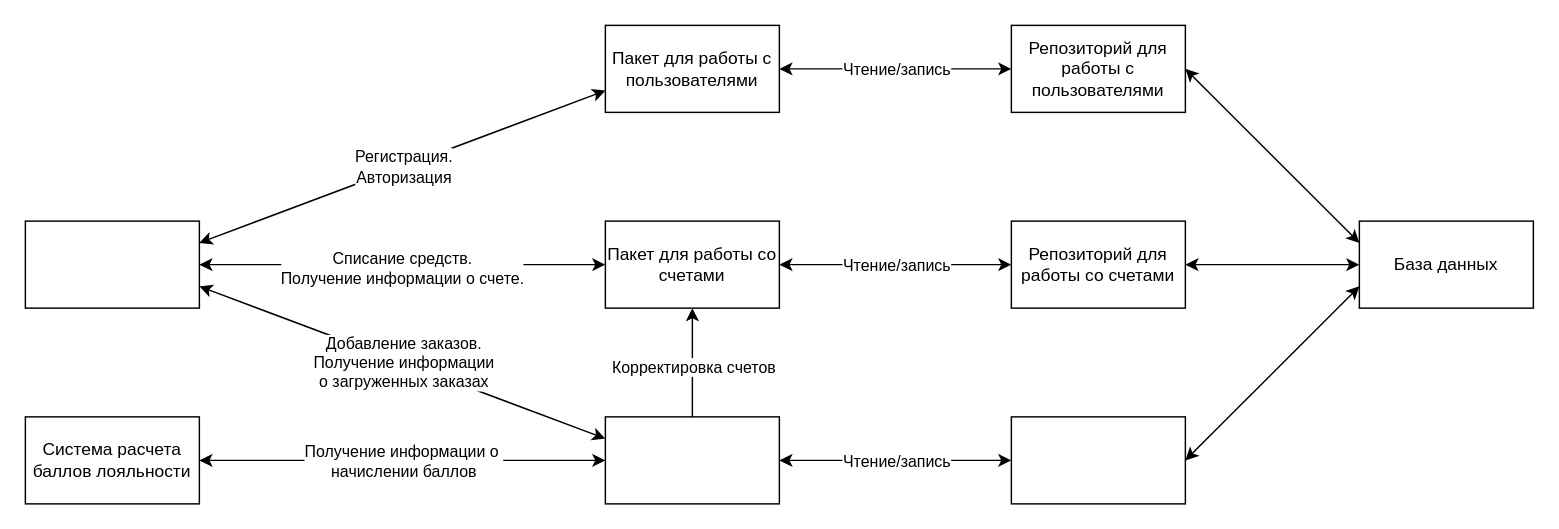
Some shapes in this 1559 by 529 pixel diagram are drawn without their labels. The shapes that lost their labels are listed below. From the top down, each one's box as (x1, y1, x2, y2) in pixels, then its label:
(24, 220, 199, 308): Клиент
(604, 415, 779, 504): Пакет для работы с заказами
(1010, 415, 1185, 504): Репозиторий для работы с заказами
